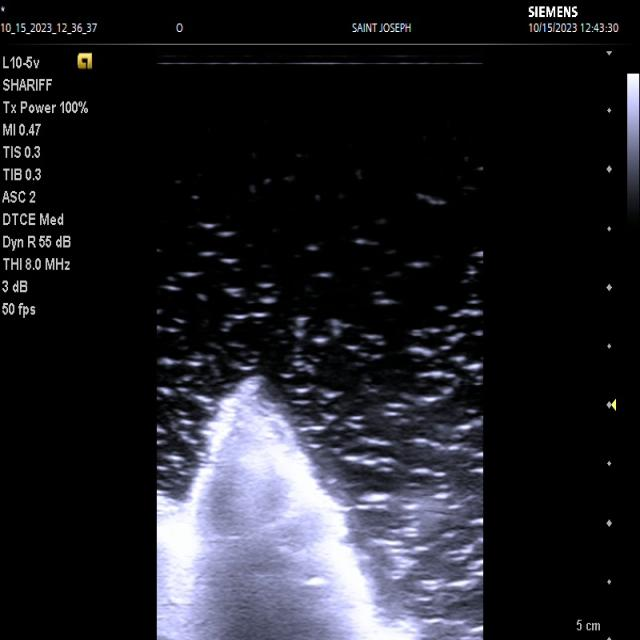tissue: (157, 375, 415, 640)
